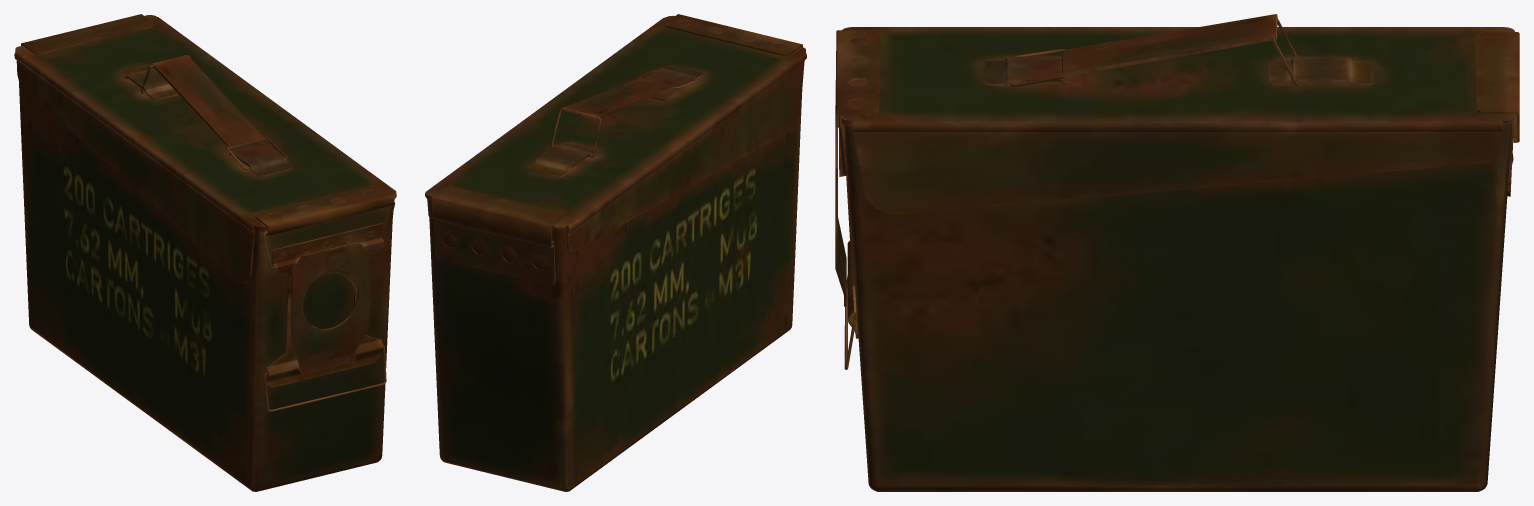
File: ammo_box.glb
The picture shows the model from 3 angles, left to right: view 1: azimuth 30°, elevation 25°; view 2: azimuth 150°, elevation 25°; view 3: azimuth 270°, elevation 25°; orthographic projection. The views are drawn at different scales.
Parts seen in each view (by area): view 1: ammo_box, ammo_box_handle, ammo_box_latch; view 2: ammo_box, ammo_box_handle; view 3: ammo_box, ammo_box_handle.
Boxes of the visible parts, <box> form: ammo_box: <box>14,14,396,491</box>; ammo_box_handle: <box>152,55,265,149</box>; ammo_box_latch: <box>263,345,386,411</box>; ammo_box: <box>425,14,806,491</box>; ammo_box_handle: <box>562,78,675,119</box>; ammo_box: <box>835,27,1519,491</box>; ammo_box_handle: <box>1062,14,1277,76</box>.
Size of the model in its own units: 0.0865 by 0.1773 by 0.2578.
Materials: 1 (1 with a texture image).
